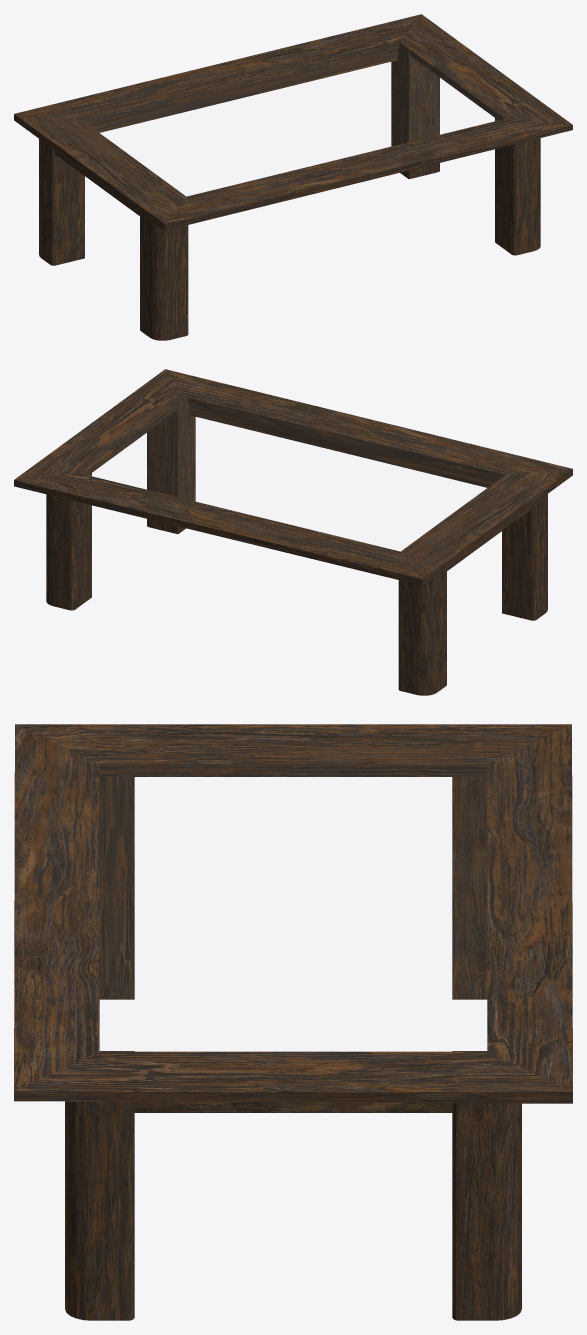
File: wooden_glass_table.glb
3 views of the same model, one above another, from view 1: azimuth 30°, elevation 25°; view 2: azimuth 150°, elevation 25°; view 3: azimuth 270°, elevation 25° (orthographic). The views are drawn at different scales.
Visible parts, largest first — view 1: Cube.000_0; view 2: Cube.000_0; view 3: Cube.000_0.
Part boxes in pixels (bbox=[...]): Cube.000_0: bbox=[14, 14, 572, 340]; Cube.000_0: bbox=[14, 369, 572, 695]; Cube.000_0: bbox=[14, 724, 572, 1320].
Bounding box in the file's own units: 1.87 × 0.5709 × 1.2.
3 materials, 1 textured.
